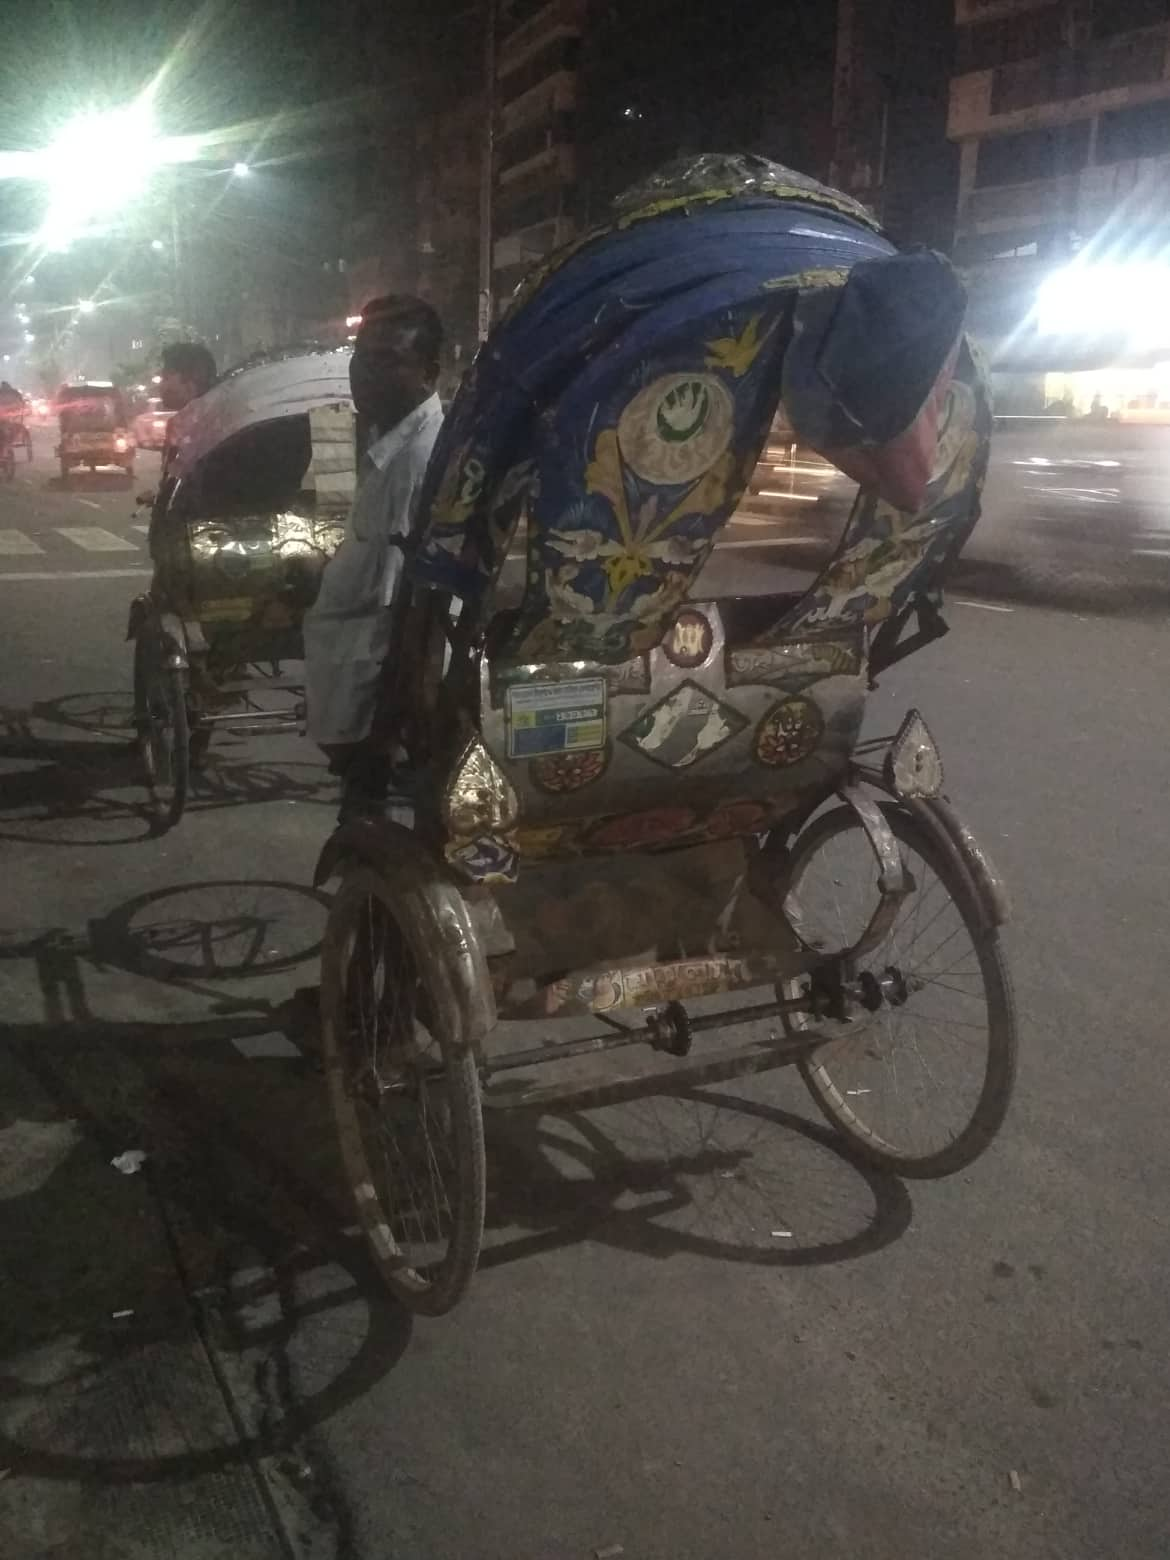Rickshaw: (344, 161, 1018, 1226), (118, 338, 453, 789)
